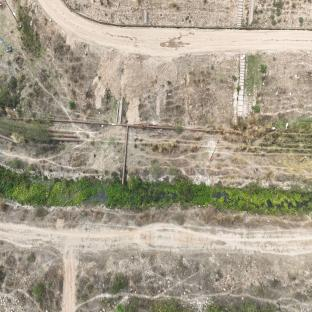slope_drain: (116, 97, 123, 123)
vegetation: (2, 172, 312, 213)
